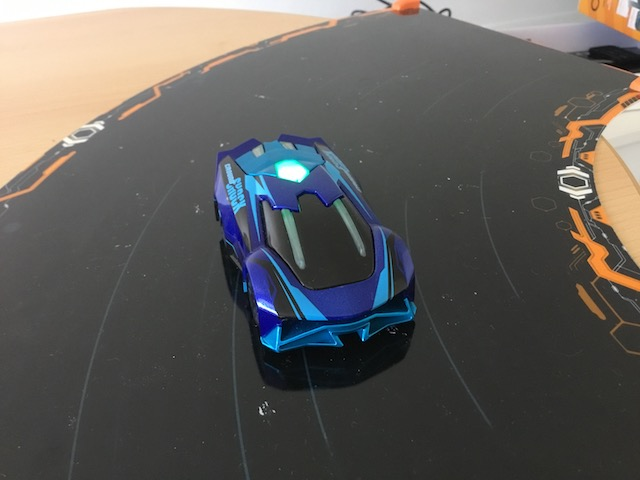car-blue: (201, 130, 426, 372)
